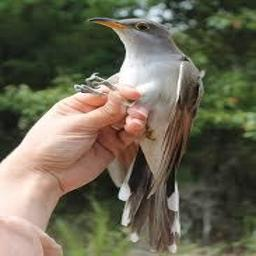Cuckoo: (79, 18, 205, 253)
